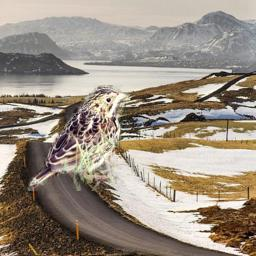Sparrow: (27, 85, 131, 191)
